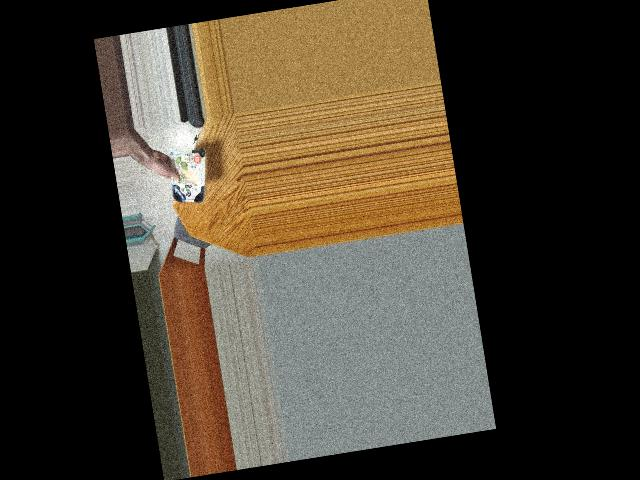cheese: (168, 151, 206, 205)
